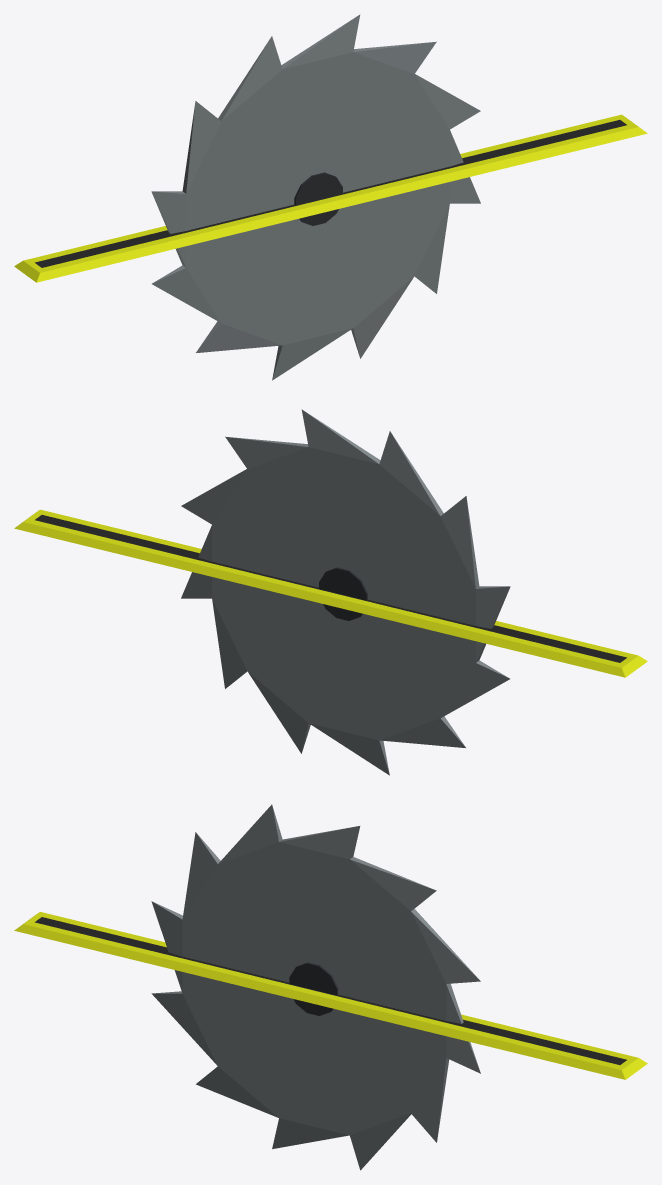
File: TESTERE_ENGEL (1).fbx
The picture shows the model from 3 angles, top to bottom: view 1: azimuth 30°, elevation 25°; view 2: azimuth 150°, elevation 25°; view 3: azimuth 330°, elevation 25°; orthographic projection.
Parts seen in each view (by area): view 1: Testere engel.001, Testere engel; view 2: Testere engel.001, Testere engel; view 3: Testere engel.001, Testere engel.
Boxes of the visible parts, <box> form: Testere engel.001: <box>151,14,480,380</box>; Testere engel: <box>14,114,647,282</box>; Testere engel.001: <box>181,409,510,775</box>; Testere engel: <box>14,509,647,677</box>; Testere engel.001: <box>151,804,480,1170</box>; Testere engel: <box>14,912,647,1079</box>.
Bounding box in the file's own units: 406 × 219 × 25.75.
